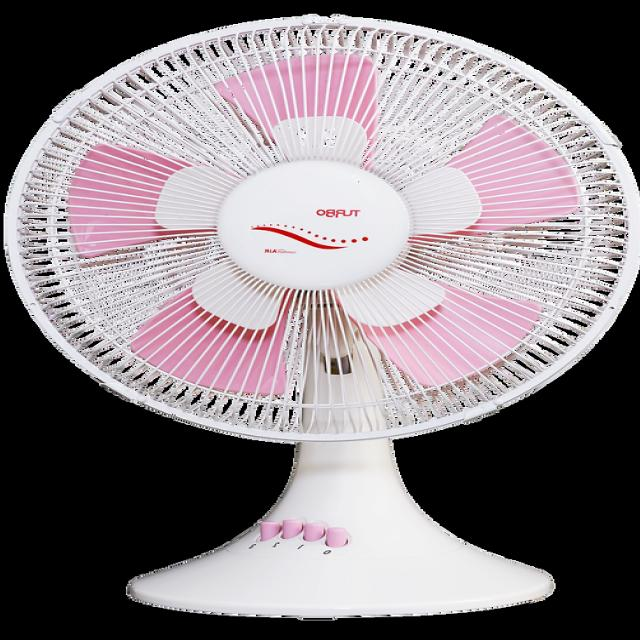fan: (8, 13, 632, 621)
